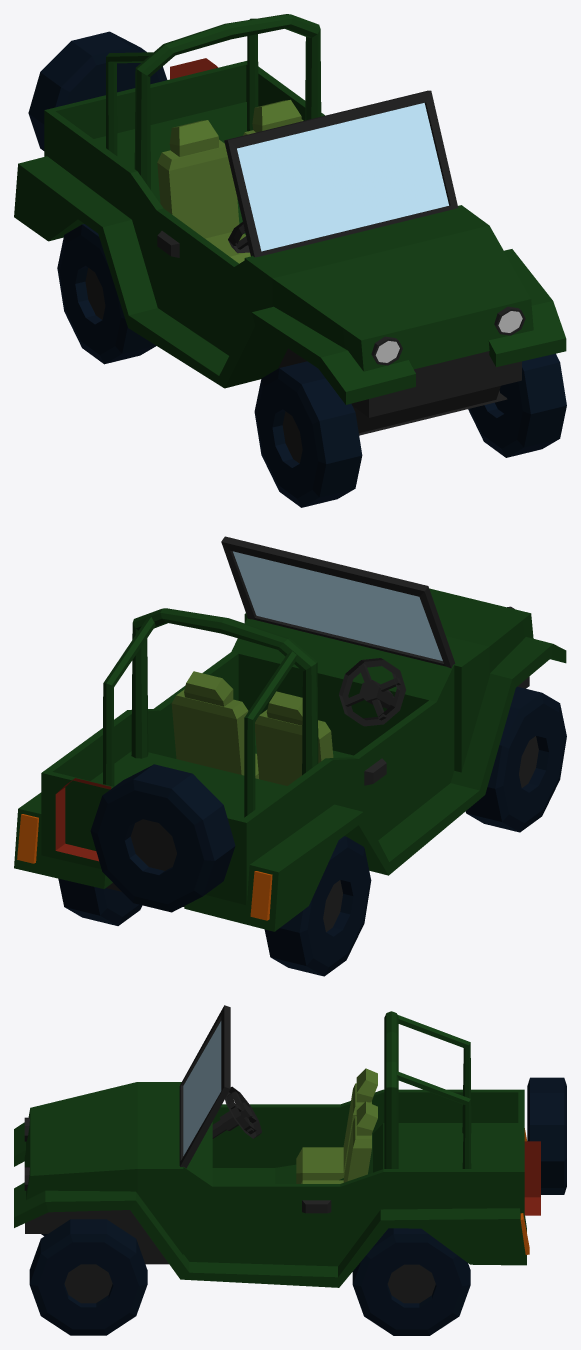
The model's file is jeep.glb.
The picture shows the model from 3 angles, top to bottom: view 1: azimuth 30°, elevation 25°; view 2: azimuth 150°, elevation 25°; view 3: azimuth 270°, elevation 25°; orthographic projection. The views are drawn at different scales.
Visible parts, largest first — view 1: Jeep_1459ef, Jeep_005fd9, Jeep_eba7bd, Jeep_21c954, Jeep_8e4c06, Jeep_3cdfc7; view 2: Jeep_1459ef, Jeep_005fd9, Jeep_21c954, Jeep_eba7bd, Jeep_8e4c06, Jeep_4e2e37, Jeep_e4d220; view 3: Jeep_1459ef, Jeep_005fd9, Jeep_21c954, Jeep_8e4c06, Jeep_eba7bd, Jeep_e4d220.
Boxes of the visible parts, x1,y1,x2,y2 form: Jeep_1459ef: (14,14,566,404); Jeep_005fd9: (28,31,566,507); Jeep_eba7bd: (237,103,448,251); Jeep_21c954: (85,90,525,463); Jeep_8e4c06: (157,99,303,263); Jeep_3cdfc7: (375,311,522,362); Jeep_1459ef: (14,588,566,931); Jeep_005fd9: (58,686,566,976); Jeep_21c954: (106,536,538,931); Jeep_eba7bd: (233,551,442,660); Jeep_8e4c06: (171,671,333,785); Jeep_4e2e37: (17,814,272,920); Jeep_e4d220: (55,778,111,861); Jeep_1459ef: (14,1011,526,1287); Jeep_005fd9: (29,1077,566,1335); Jeep_21c954: (24,1005,435,1303); Jeep_8e4c06: (296,1068,377,1183); Jeep_eba7bd: (183,1021,221,1155); Jeep_e4d220: (524,1141,540,1215).
Size of the model in its own units: 2.04 by 2.33 by 4.56.
